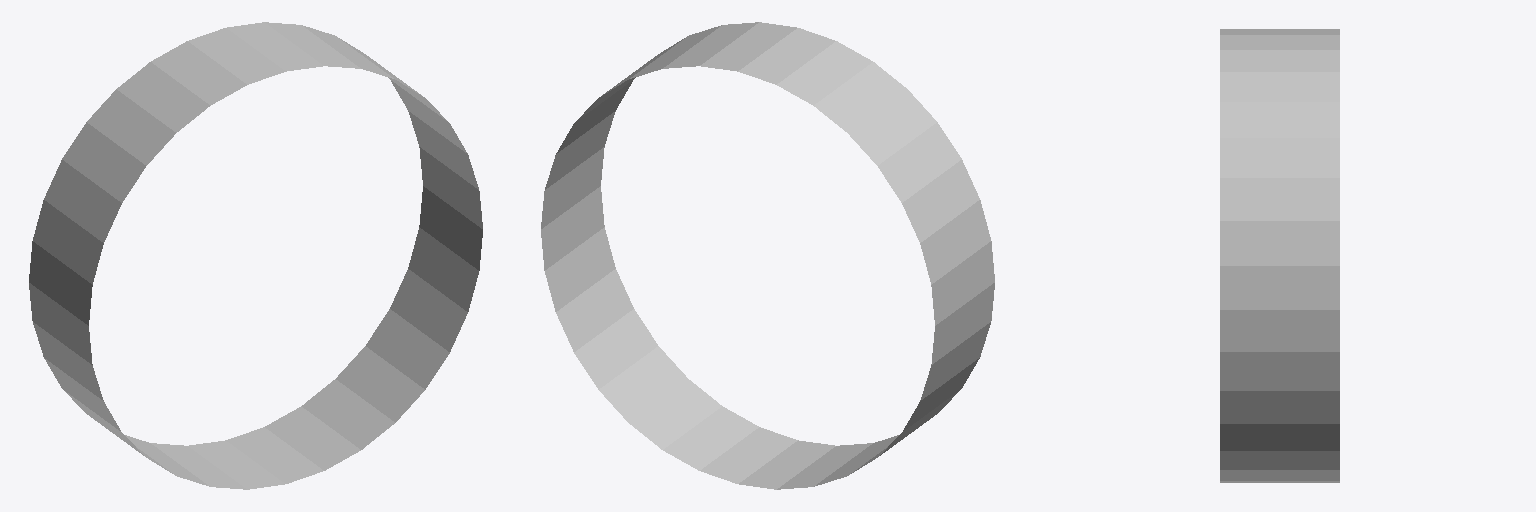
Rendered from tubeTriangulated.obj.
3 renders of one model, left to right at view 1: azimuth 30°, elevation 25°; view 2: azimuth 150°, elevation 25°; view 3: azimuth 270°, elevation 25°, orthographic.
Parts seen in each view (by area): view 1: Cylinder; view 2: Cylinder; view 3: Cylinder.
Boxes of the visible parts, x1,y1,x2,y2 form: Cylinder: [29, 22, 482, 489]; Cylinder: [541, 22, 994, 489]; Cylinder: [1220, 29, 1339, 482].
Size of the model in its own units: 2 by 2 by 0.5286.